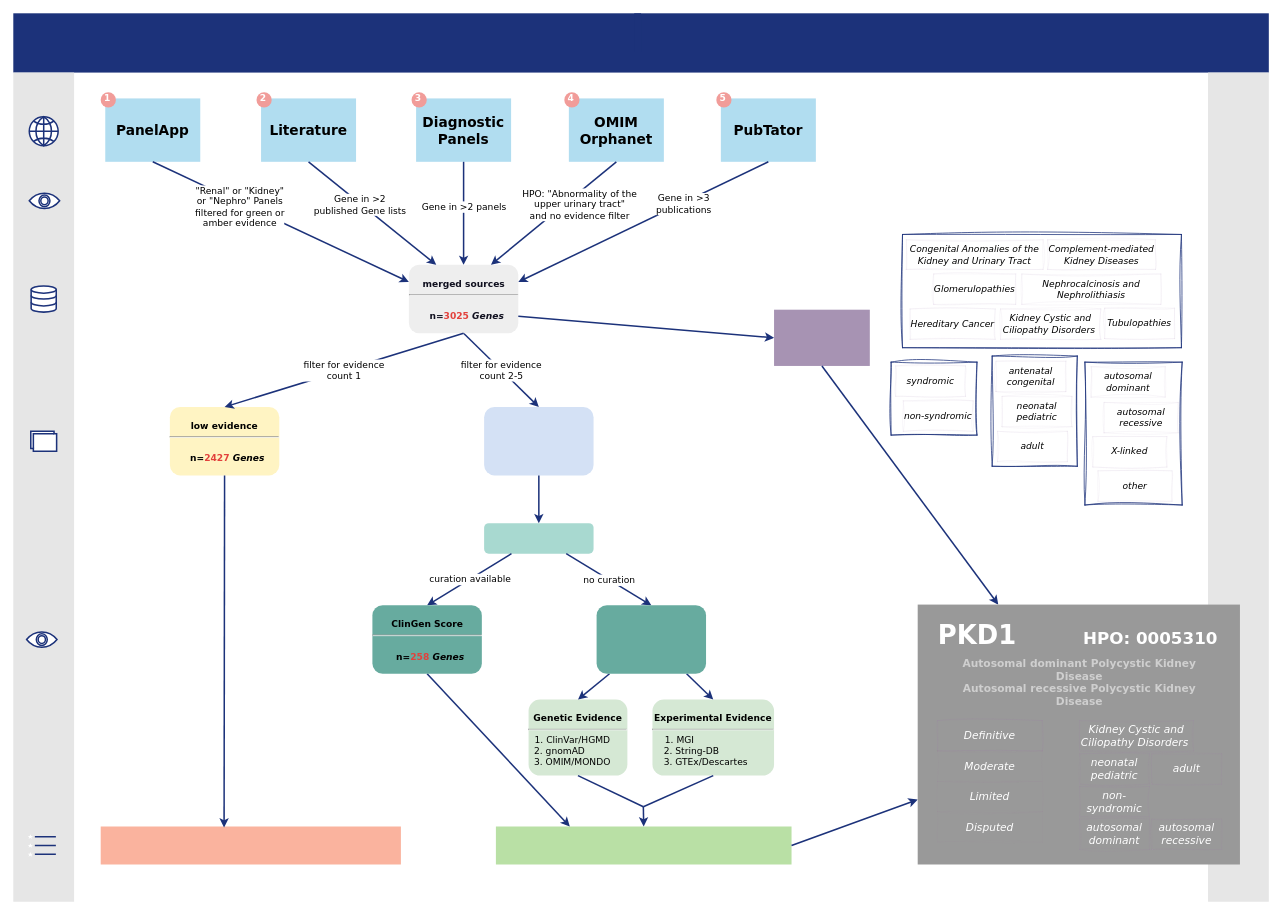
This 1281x914 diagram has some shape labels left out. Each missing label, with the centre of its shape:
Candidate list of low evident genes: the point at 250,845
Curated list of high evident genes: the point at 643,845
Grouping: the point at 821,337
high evidence n= 598 Genes: the point at 538,441
Kidney Genetics: the point at 640,42
manual gene curation: the point at 538,538
Manual Scoring n= 340 Genes: the point at 651,639
